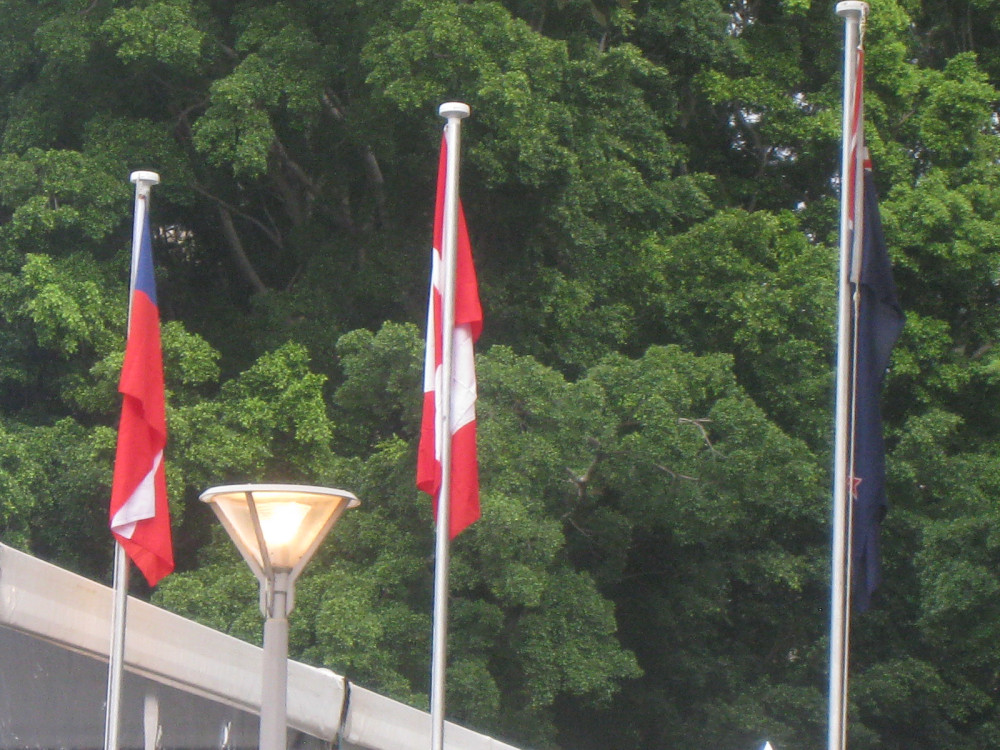Flag: (823, 50, 893, 611), (412, 132, 493, 541), (109, 204, 186, 589)
